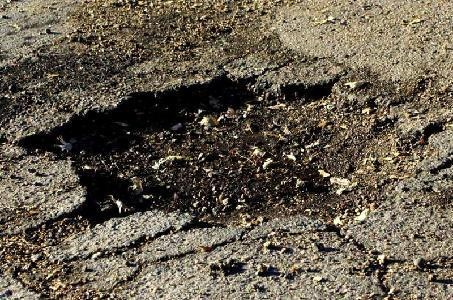pothole: (15, 71, 439, 228)
